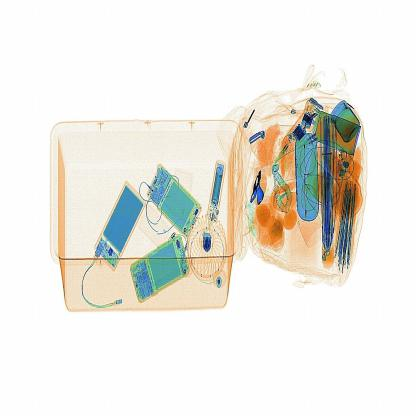wrench: (248, 164, 272, 214)
